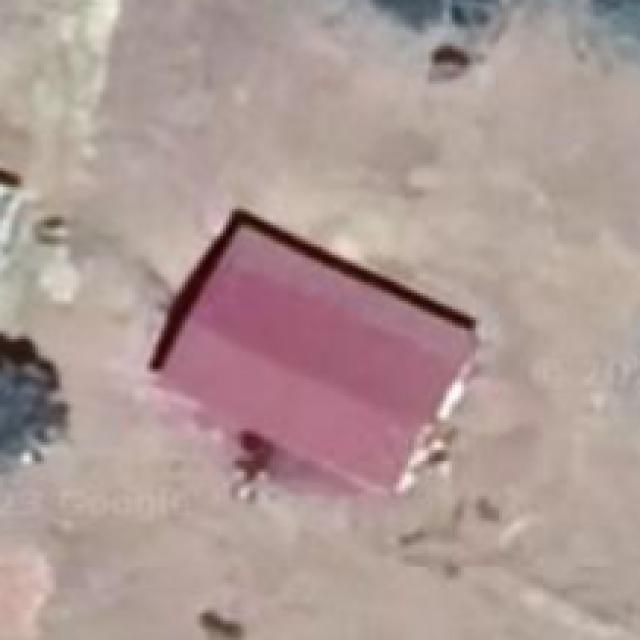Batiment: (152, 211, 475, 491)
